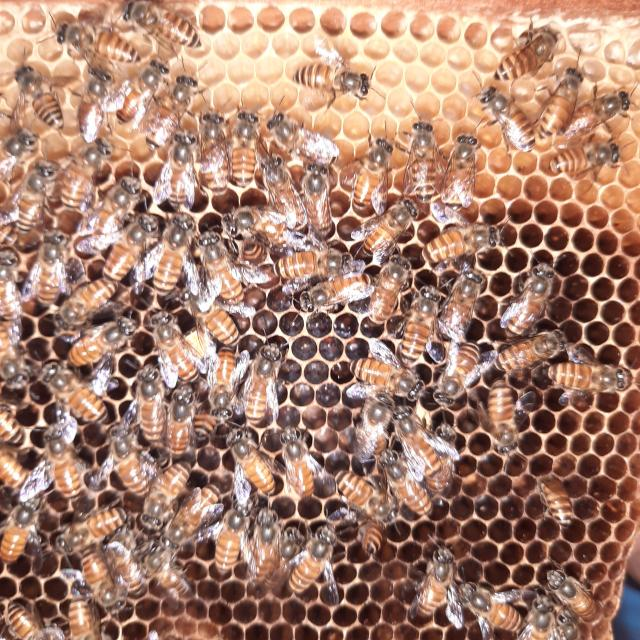honeybee: (270, 422, 354, 517), (176, 227, 260, 306), (288, 46, 378, 104), (70, 534, 138, 610), (128, 217, 218, 274), (8, 165, 76, 239), (341, 333, 407, 409), (412, 215, 521, 260), (427, 575, 506, 637), (150, 311, 223, 378), (0, 67, 87, 121), (33, 425, 96, 496), (450, 126, 500, 215), (131, 13, 223, 61), (414, 280, 490, 338), (517, 265, 585, 328), (402, 108, 442, 215), (58, 362, 120, 430), (538, 76, 592, 154), (126, 367, 183, 438), (42, 33, 112, 90), (335, 464, 388, 538), (126, 359, 168, 452), (290, 166, 344, 238), (220, 430, 289, 486), (256, 230, 332, 280), (81, 223, 147, 280), (476, 21, 554, 68), (487, 380, 530, 465), (344, 140, 390, 217), (124, 446, 188, 501), (551, 362, 629, 407), (49, 275, 120, 323), (76, 318, 147, 366), (524, 580, 580, 640), (210, 506, 256, 579), (339, 204, 427, 241), (184, 112, 231, 180), (354, 252, 409, 310), (45, 588, 110, 636), (147, 138, 209, 188), (71, 76, 120, 139), (16, 247, 79, 296), (116, 65, 158, 137), (62, 152, 120, 204), (409, 544, 459, 604), (545, 482, 596, 540), (538, 149, 629, 181), (498, 326, 566, 368), (384, 462, 434, 519), (145, 84, 199, 136), (391, 410, 443, 464), (231, 108, 272, 176), (482, 84, 525, 147), (3, 486, 42, 554), (171, 479, 223, 530), (268, 113, 307, 178), (238, 367, 281, 425), (0, 265, 34, 338), (306, 522, 340, 595), (8, 580, 49, 640), (178, 386, 218, 446), (100, 418, 144, 468), (443, 346, 477, 410), (546, 556, 594, 598), (68, 503, 147, 527), (250, 514, 284, 561), (97, 163, 137, 199), (5, 333, 32, 385), (118, 542, 150, 580), (354, 390, 375, 446), (595, 92, 627, 123), (0, 126, 29, 157)
